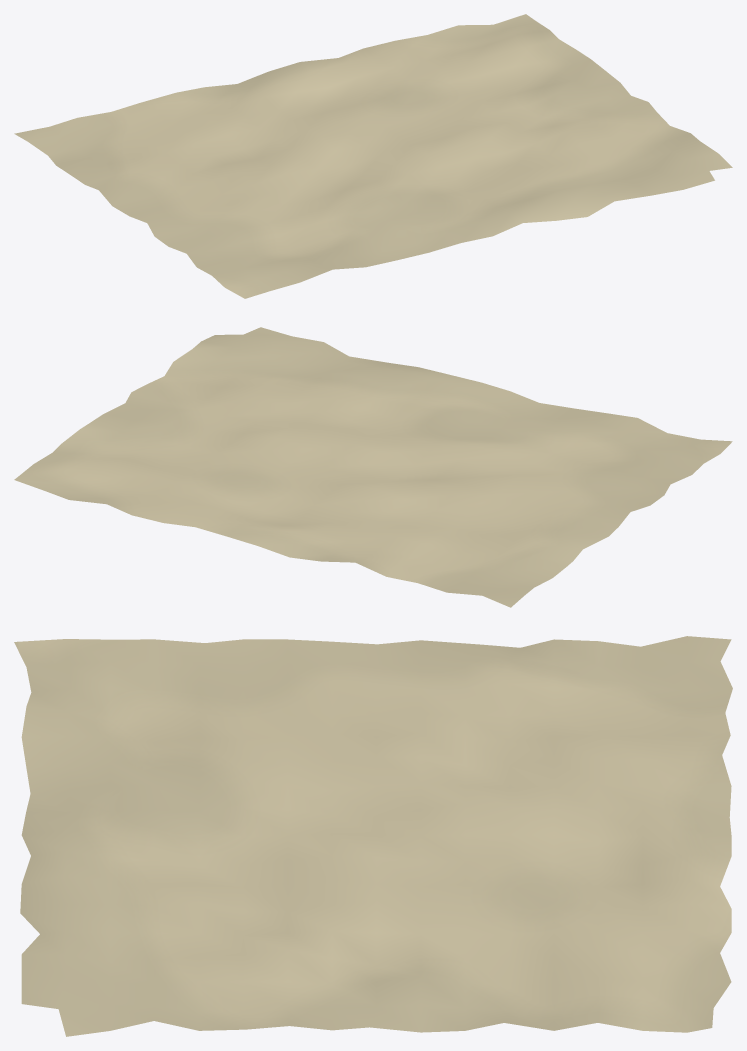
Rendered from Paper_OldParchment.glb.
The picture shows the model from 3 angles, top to bottom: view 1: azimuth 30°, elevation 25°; view 2: azimuth 150°, elevation 25°; view 3: azimuth 270°, elevation 25°; orthographic projection. The views are drawn at different scales.
Parts seen in each view (by area): view 1: Plane; view 2: Plane; view 3: Plane.
Part boxes in pixels (left/top/right/bottom): Plane: left=14, top=14, right=732, bottom=298; Plane: left=14, top=327, right=732, bottom=607; Plane: left=14, top=636, right=732, bottom=1036.
Bounding box in the file's own units: 2.61 × 0.0531 × 2.03.
1 material, 1 textured.
